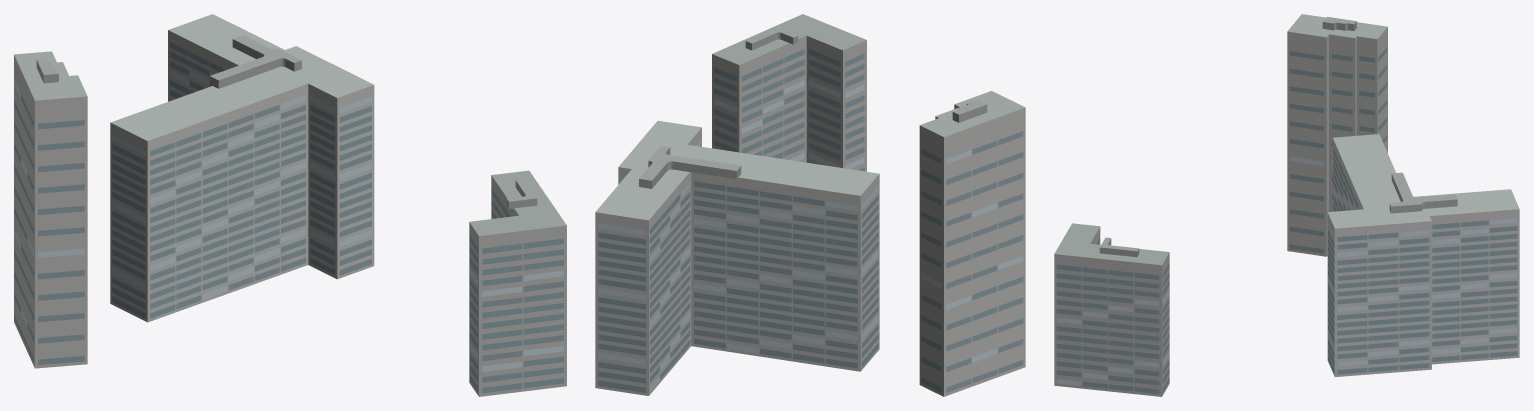
The model's file is apt-a15180701.glb.
3 views of the same model, side by side, from view 1: azimuth 30°, elevation 25°; view 2: azimuth 150°, elevation 25°; view 3: azimuth 270°, elevation 25° (orthographic). The views are drawn at different scales.
Visible parts, largest first — view 1: apt-a15180701; view 2: apt-a15180701; view 3: apt-a15180701.
Boxes of the visible parts, x1,y1,x2,y2 form: apt-a15180701: (14, 14, 566, 396); apt-a15180701: (595, 14, 1025, 396); apt-a15180701: (1054, 14, 1519, 396).
Size of the model in its own units: 122 by 78.65 by 147.
